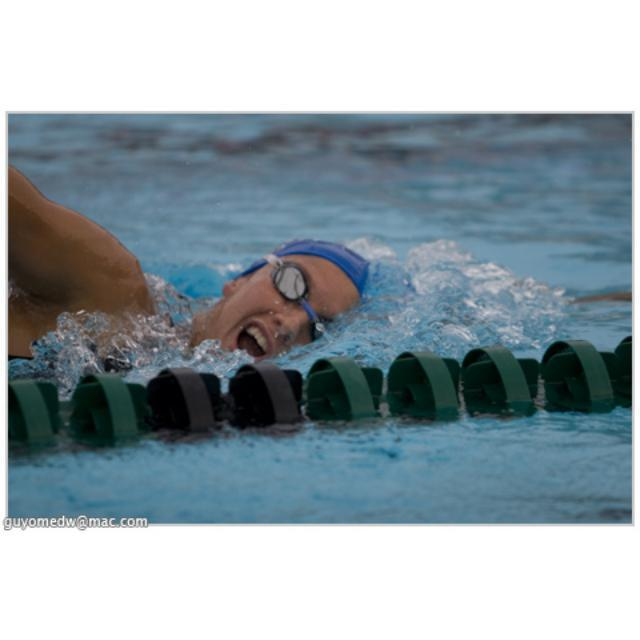human: (1, 159, 403, 363)
